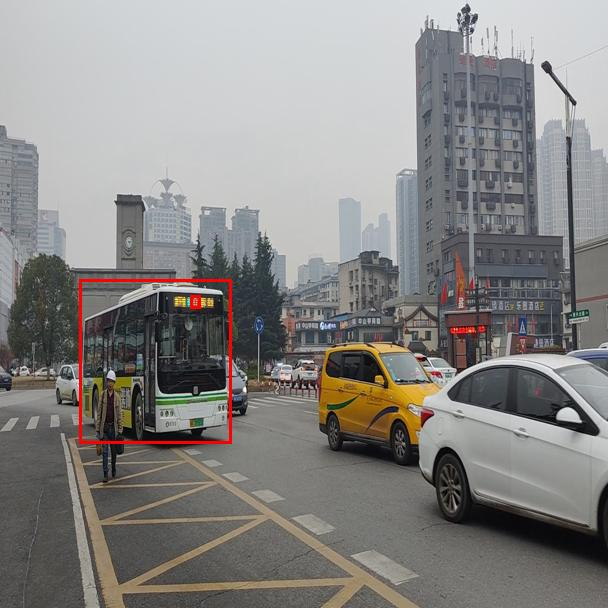bus: (79, 279, 231, 443)
screen: (190, 295, 200, 308)
